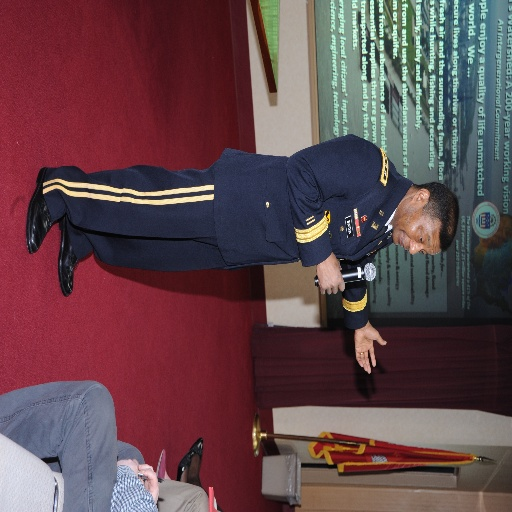hand: (353, 318, 389, 380), (316, 254, 346, 297), (138, 462, 159, 506), (115, 457, 138, 481)
